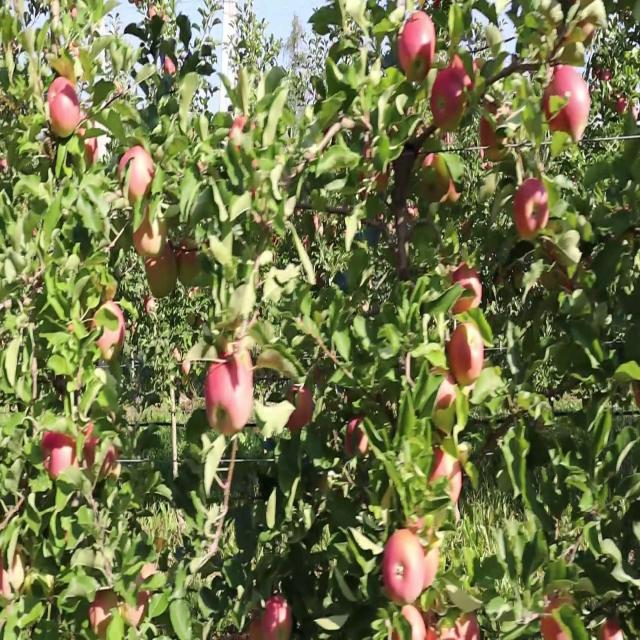apple: (384, 533, 429, 608), (432, 56, 475, 133), (204, 362, 244, 434), (544, 71, 588, 135), (400, 14, 437, 84), (512, 177, 551, 242), (88, 298, 127, 361), (448, 327, 485, 389), (428, 447, 464, 507), (120, 149, 156, 208), (360, 135, 392, 201), (540, 78, 575, 135), (48, 78, 80, 140), (448, 263, 484, 318), (136, 207, 168, 261), (480, 99, 510, 156), (416, 526, 441, 592), (204, 362, 232, 420), (48, 433, 79, 482), (148, 248, 177, 300), (88, 590, 119, 638), (568, 78, 592, 140), (224, 391, 255, 439), (556, 21, 587, 68), (360, 142, 384, 201), (420, 156, 449, 204), (288, 383, 316, 432), (224, 348, 255, 389), (264, 597, 294, 638), (176, 241, 201, 290), (540, 597, 569, 639), (228, 113, 257, 155), (136, 561, 160, 610), (228, 341, 255, 384), (344, 419, 371, 460), (232, 312, 258, 354), (120, 591, 148, 629), (80, 113, 100, 165), (40, 433, 68, 469), (4, 554, 25, 601), (572, 7, 597, 46), (540, 241, 559, 292), (392, 611, 426, 639), (436, 369, 457, 411), (84, 426, 102, 475), (424, 540, 441, 588), (100, 447, 122, 482), (456, 611, 480, 639), (84, 127, 100, 165), (444, 177, 463, 208), (600, 618, 624, 639), (248, 611, 264, 638), (164, 56, 178, 78), (632, 383, 640, 411)
